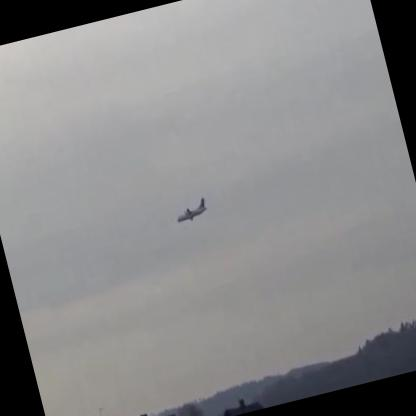plane: (173, 196, 211, 226)
